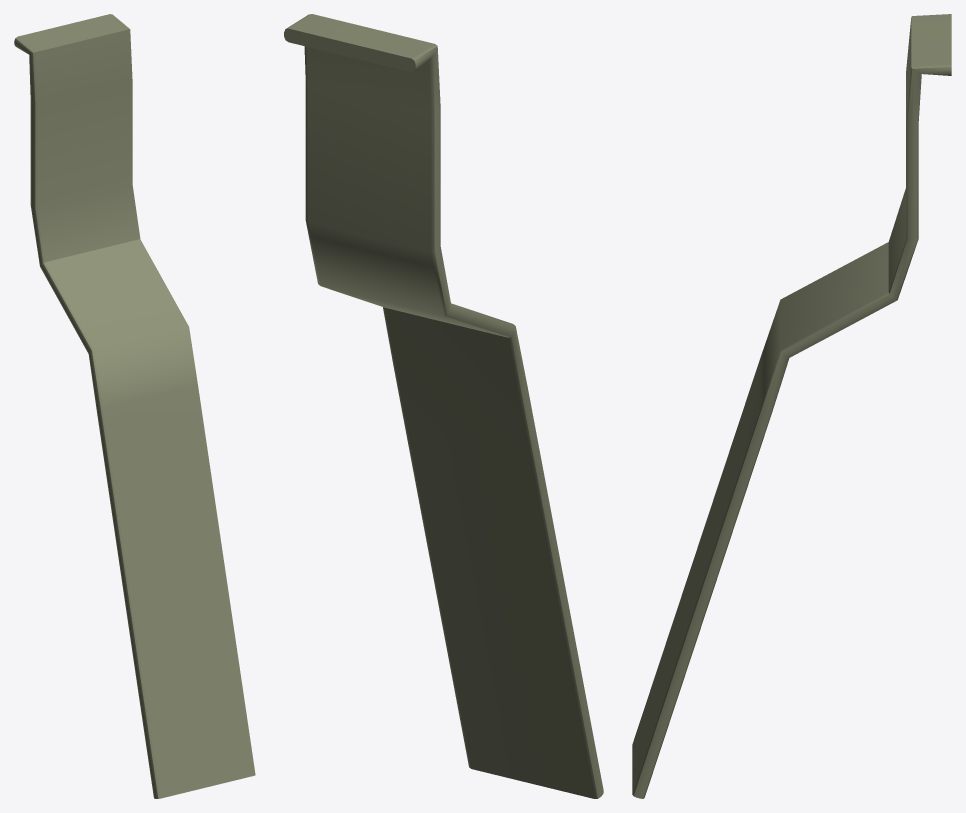
The model's file is grenade_spoon.glb.
The picture shows the model from 3 angles, left to right: view 1: azimuth 30°, elevation 25°; view 2: azimuth 150°, elevation 25°; view 3: azimuth 270°, elevation 25°; orthographic projection. The views are drawn at different scales.
Visible parts, largest first — view 1: grenade_spoon; view 2: grenade_spoon; view 3: grenade_spoon.
Part boxes in pixels (x1,y1,x2,y2): grenade_spoon: (14, 14, 255, 798); grenade_spoon: (284, 14, 603, 798); grenade_spoon: (632, 14, 951, 798).
Bounding box in the file's own units: 0.012 × 0.0763 × 0.0301.
